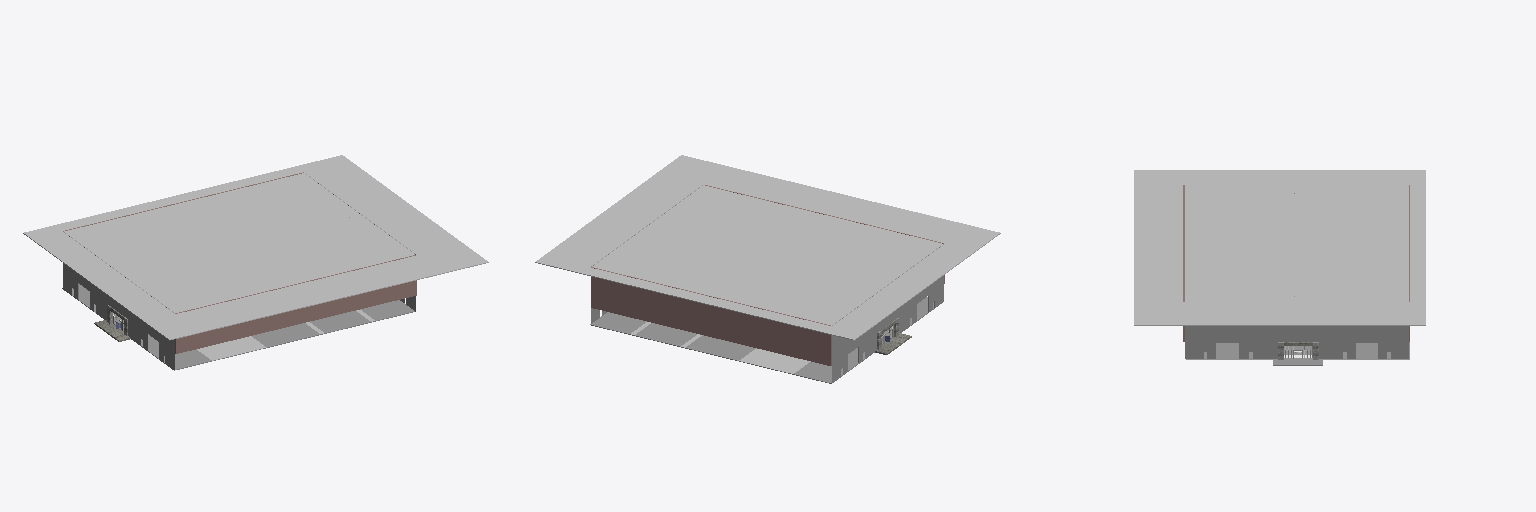
3 views of the same model, side by side, from view 1: azimuth 30°, elevation 25°; view 2: azimuth 150°, elevation 25°; view 3: azimuth 270°, elevation 25° (orthographic).
Parts seen in each view (by area): view 1: Cube.001, floor.001_floor.002, Extrude.1_226.001, 80meter_X_15heights.2; view 2: Cube.001, Extrude.1_226, floor.001_floor.002, 80meter_X_15heights.2; view 3: Cube.001, 80meter_X_15heights, floor.001_floor.002.
Boxes of the visible parts, <box> form: Cube.001: <box>23,155,488,340</box>; floor.001_floor.002: <box>62,284,414,370</box>; Extrude.1_226.001: <box>175,255,416,353</box>; 80meter_X_15heights.2: <box>63,232,174,369</box>; Cube.001: <box>535,155,1000,340</box>; Extrude.1_226: <box>591,267,831,365</box>; floor.001_floor.002: <box>590,297,942,383</box>; 80meter_X_15heights.2: <box>832,244,943,382</box>; Cube.001: <box>1134,170,1425,325</box>; 80meter_X_15heights: <box>1185,326,1408,358</box>; floor.001_floor.002: <box>1186,342,1409,359</box>.
Size of the model in its own units: 9988 by 2961 by 7928.
Materials: 17 (4 with a texture image).